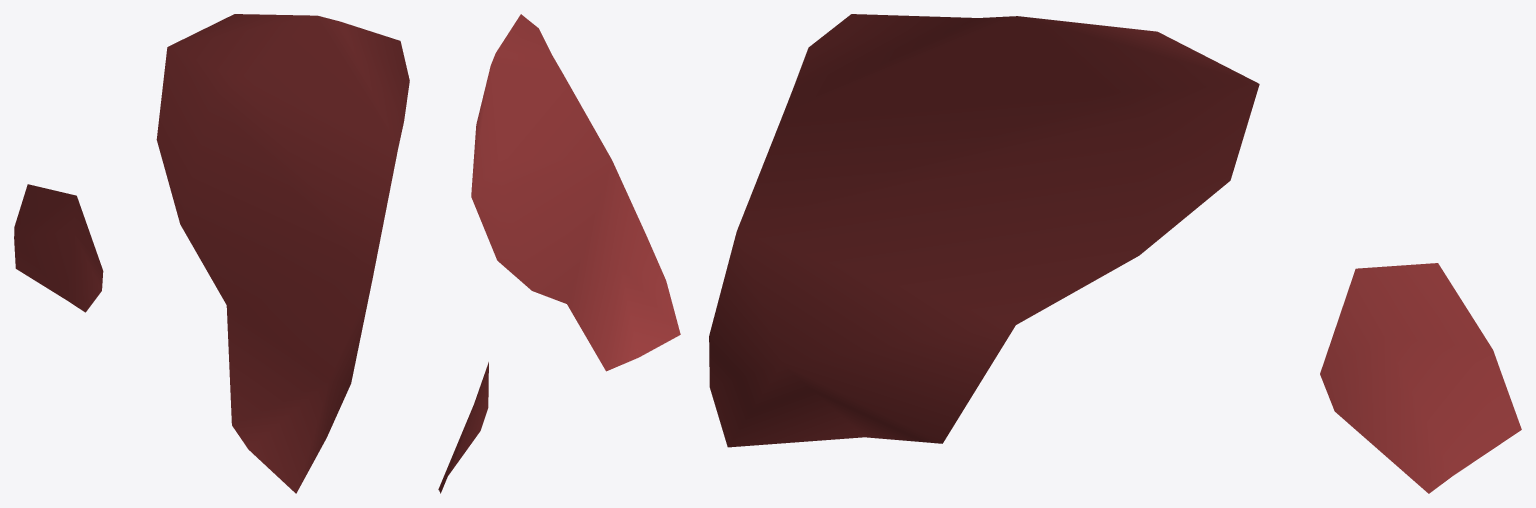
File: rectus-femoris-muscle-ol.glb
3 views of the same model, side by side, from view 1: azimuth 30°, elevation 25°; view 2: azimuth 150°, elevation 25°; view 3: azimuth 270°, elevation 25° (orthographic). The views are drawn at different scales.
Parts seen in each view (by area): view 1: Rectus femoris muscle.ol; view 2: Rectus femoris muscle.ol; view 3: Rectus femoris muscle.ol.
Boxes of the visible parts, x1,y1,x2,y2 form: Rectus femoris muscle.ol: (14, 14, 409, 493); Rectus femoris muscle.ol: (438, 14, 680, 493); Rectus femoris muscle.ol: (709, 14, 1521, 493).
Size of the model in its own units: 0.0112 by 0.0264 by 0.0351.
